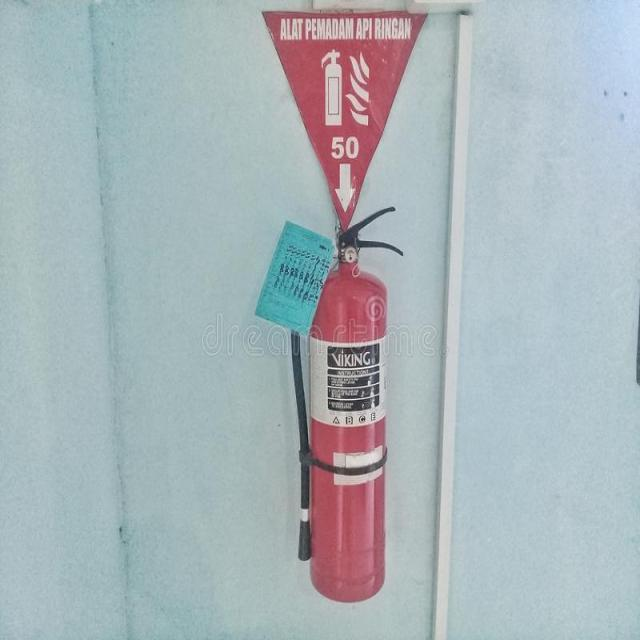fire_extinguisher: (287, 202, 411, 605)
